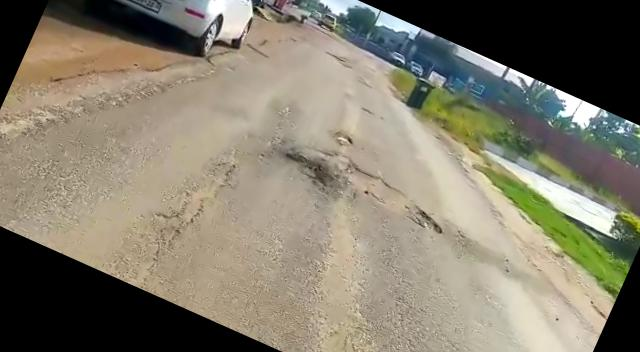pothole: (298, 142, 466, 242), (274, 138, 349, 198), (329, 128, 356, 150)
